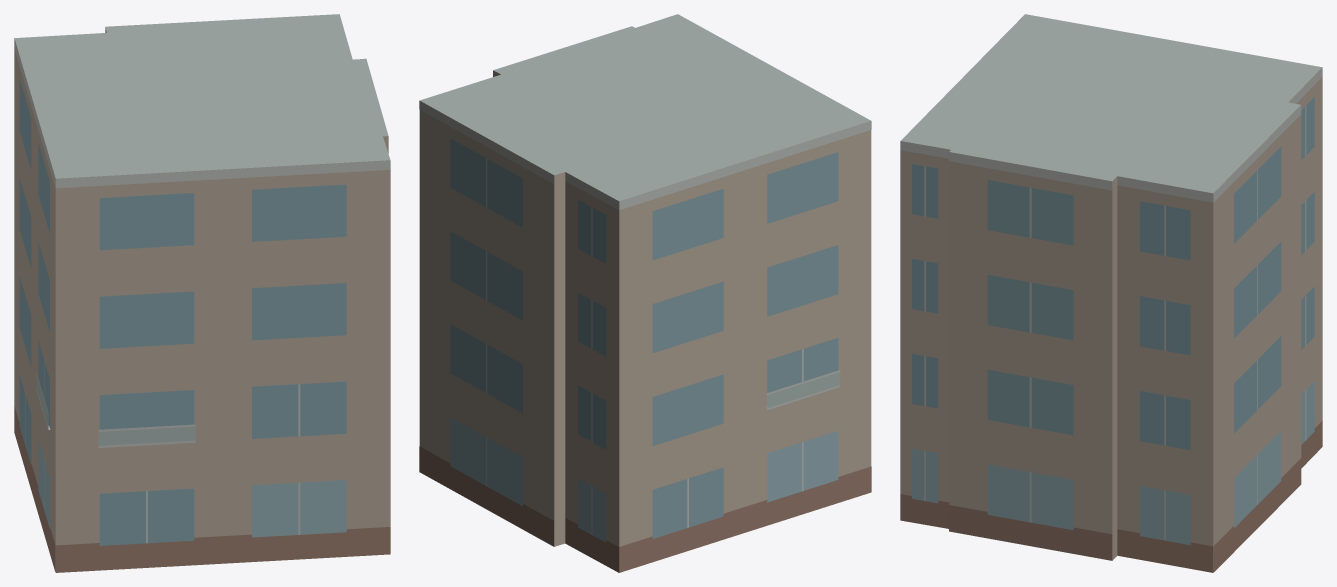
The model's file is survey-upis-32583108.glb.
3 renders of one model, left to right at view 1: azimuth 30°, elevation 25°; view 2: azimuth 150°, elevation 25°; view 3: azimuth 270°, elevation 25°, orthographic. The views are drawn at different scales.
Parts seen in each view (by area): view 1: survey-upis-32583108.tmp; view 2: survey-upis-32583108.tmp; view 3: survey-upis-32583108.tmp.
Boxes of the visible parts, x1,y1,x2,y2 form: survey-upis-32583108.tmp: (14,14,390,572); survey-upis-32583108.tmp: (419,14,871,572); survey-upis-32583108.tmp: (900,14,1322,572).
Size of the model in its own units: 10.2 by 10.05 by 10.14.
